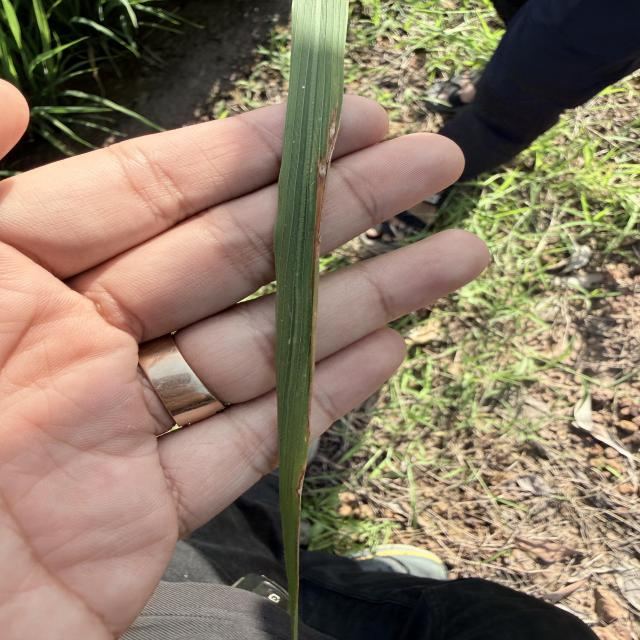Chay bia la: (291, 100, 345, 640)
